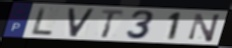1: (166, 11, 184, 42)
3: (125, 10, 157, 41)
L: (31, 6, 55, 36)
N: (187, 13, 223, 43)
T: (99, 8, 126, 39)
V: (67, 7, 97, 38)
